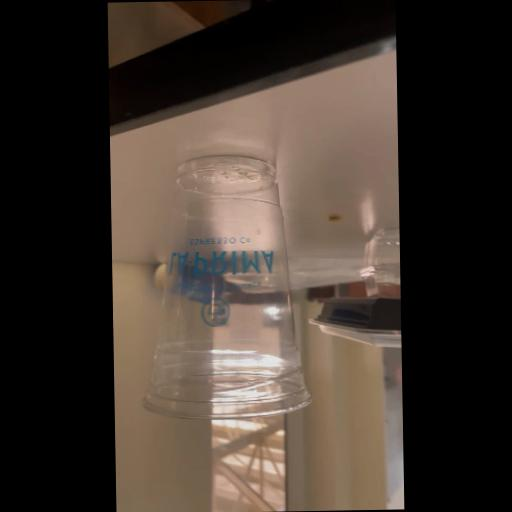lp_plastic_cup: (139, 162, 312, 420)
